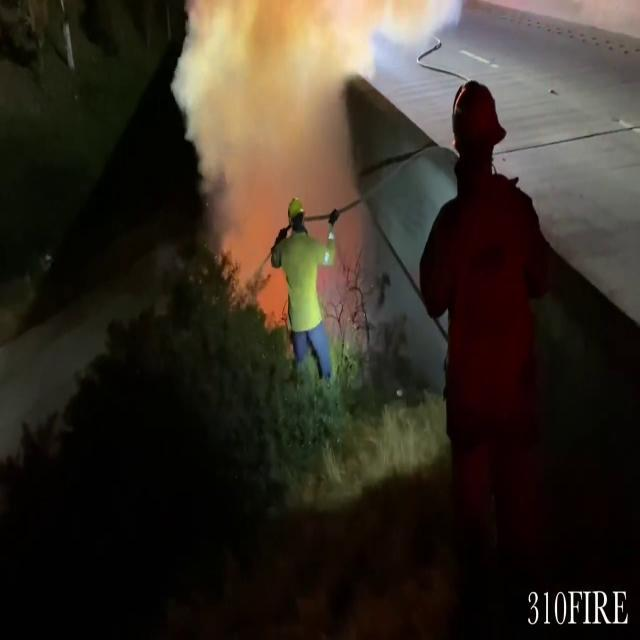Smoke: (164, 0, 394, 226)
